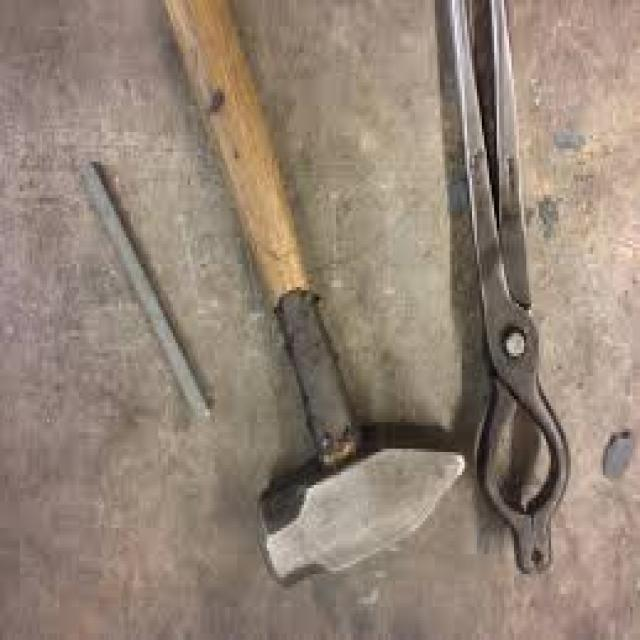hammer: (150, 0, 476, 607)
